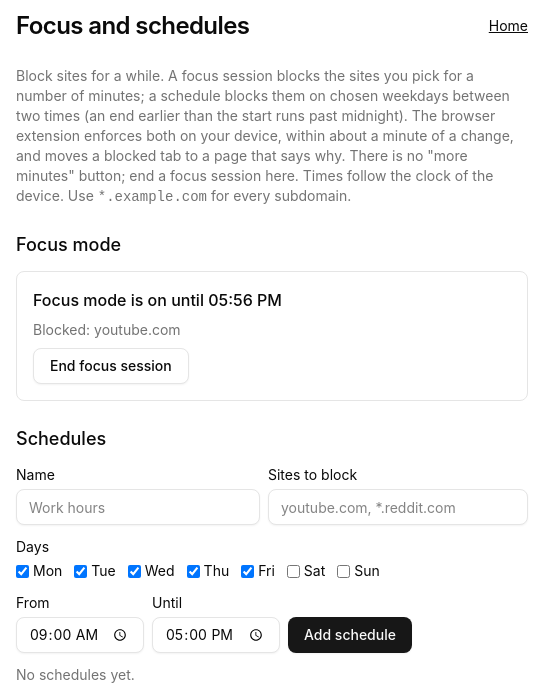
Test case: focus session › ends the running session
Click the button "End focus session" at (111, 366), box [33,348,189,384]
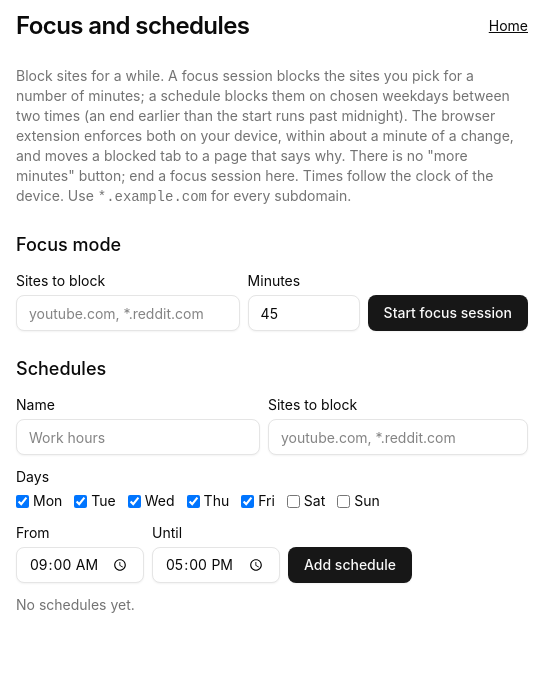
Now the button "Start focus session" is shown, box [368,295,528,331]
